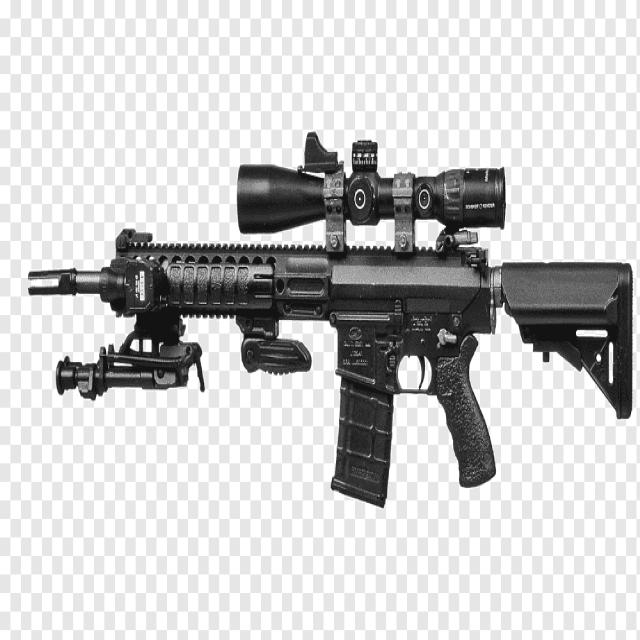Rifle: (29, 133, 635, 509)
